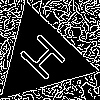H: (17, 32, 76, 89)
